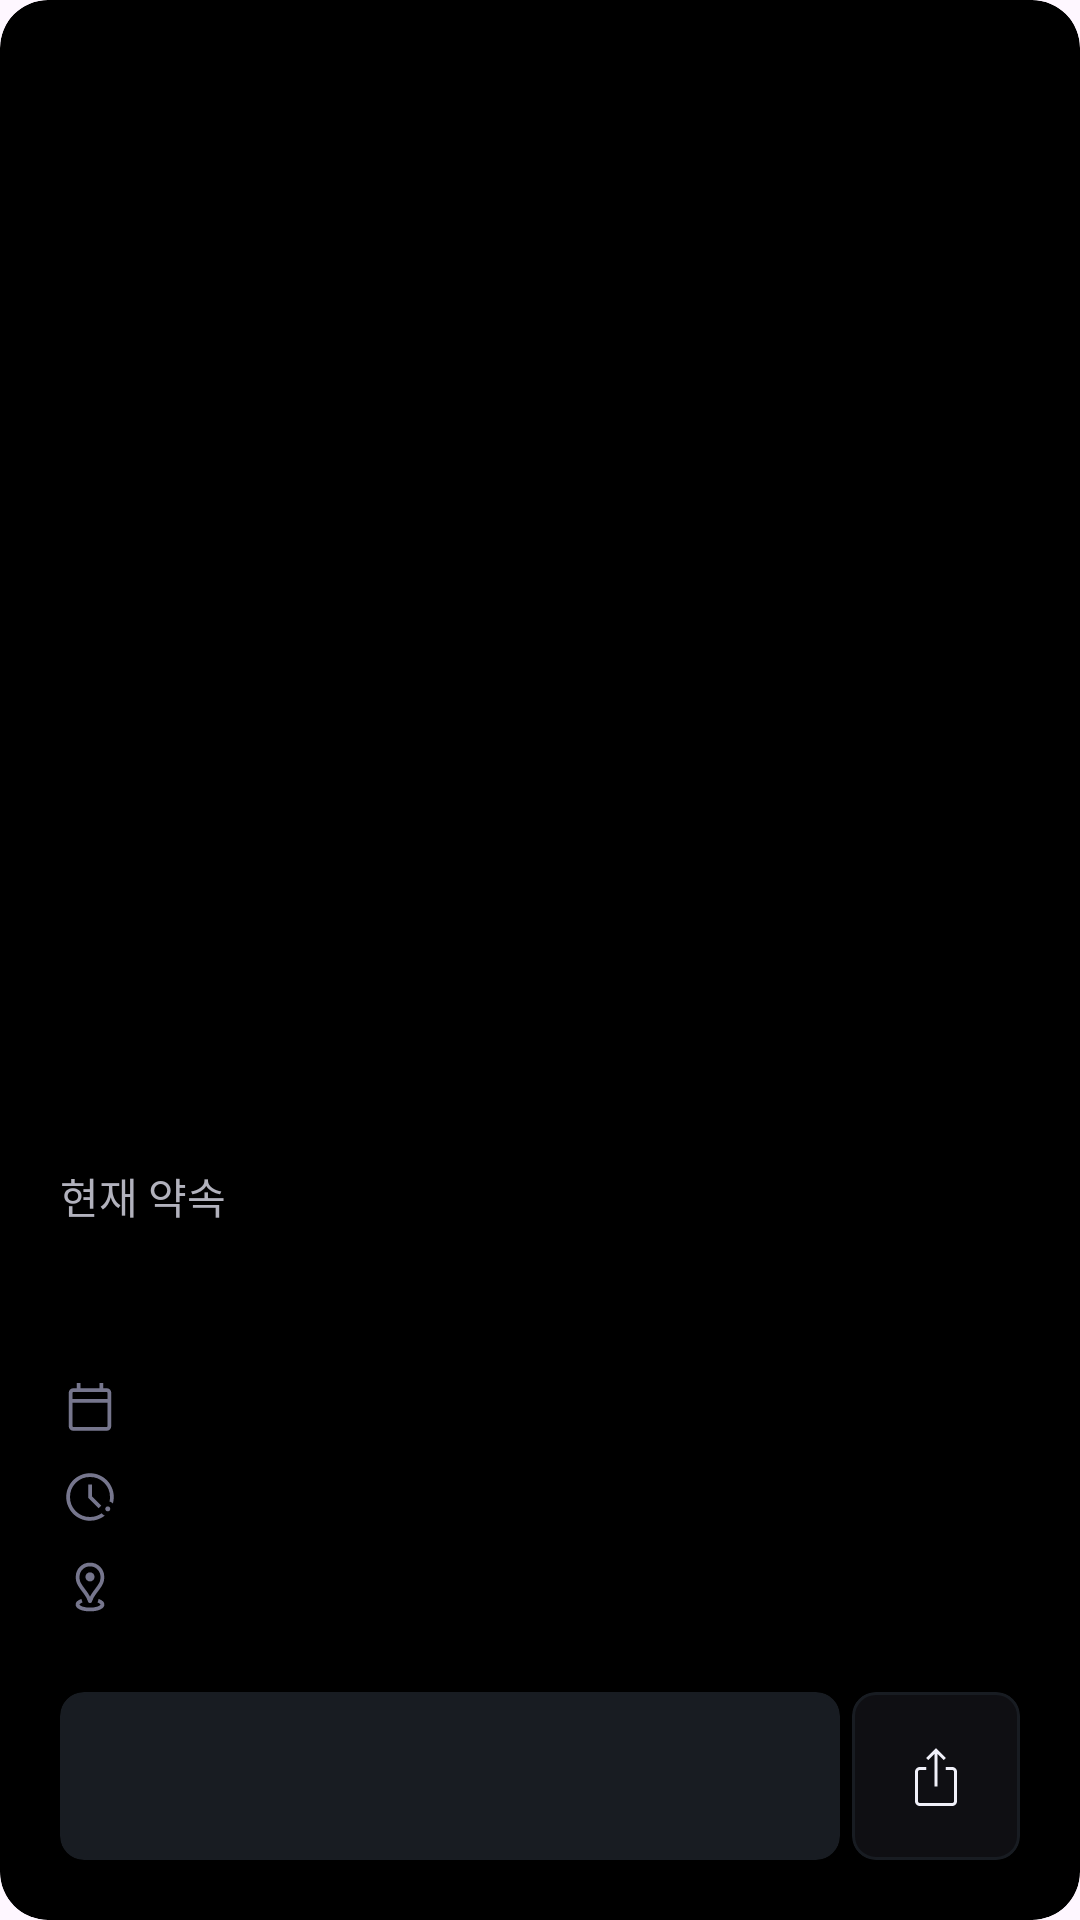

Icons on this 1080px×1920px Android screen, each with its box as (x1, y1, x2, y2):
calendar: (68, 1383, 112, 1431)
location: (75, 1562, 105, 1612)
share: (915, 1748, 957, 1806)
time: (66, 1473, 114, 1521)
